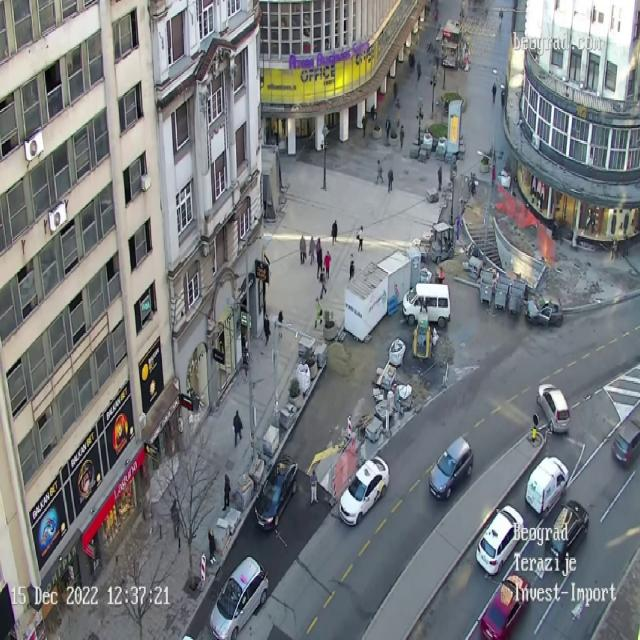car: (209, 556, 269, 640), (338, 455, 389, 526), (475, 504, 524, 576), (254, 454, 298, 532), (480, 575, 529, 639), (428, 436, 474, 500), (525, 455, 569, 517), (549, 499, 589, 562), (406, 284, 450, 326), (536, 383, 570, 434), (612, 418, 640, 467), (527, 295, 564, 325)
